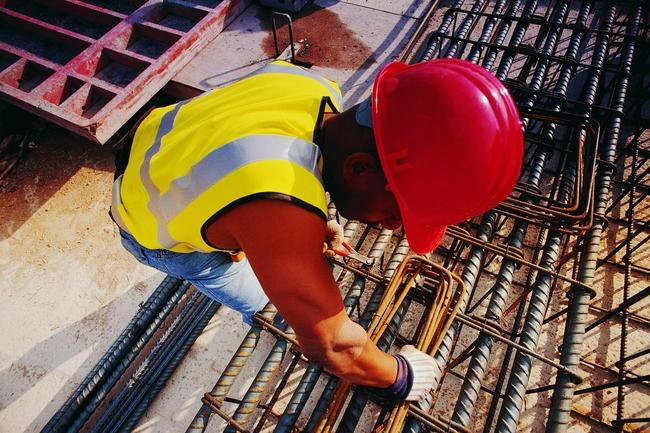helmet: (377, 50, 521, 254)
